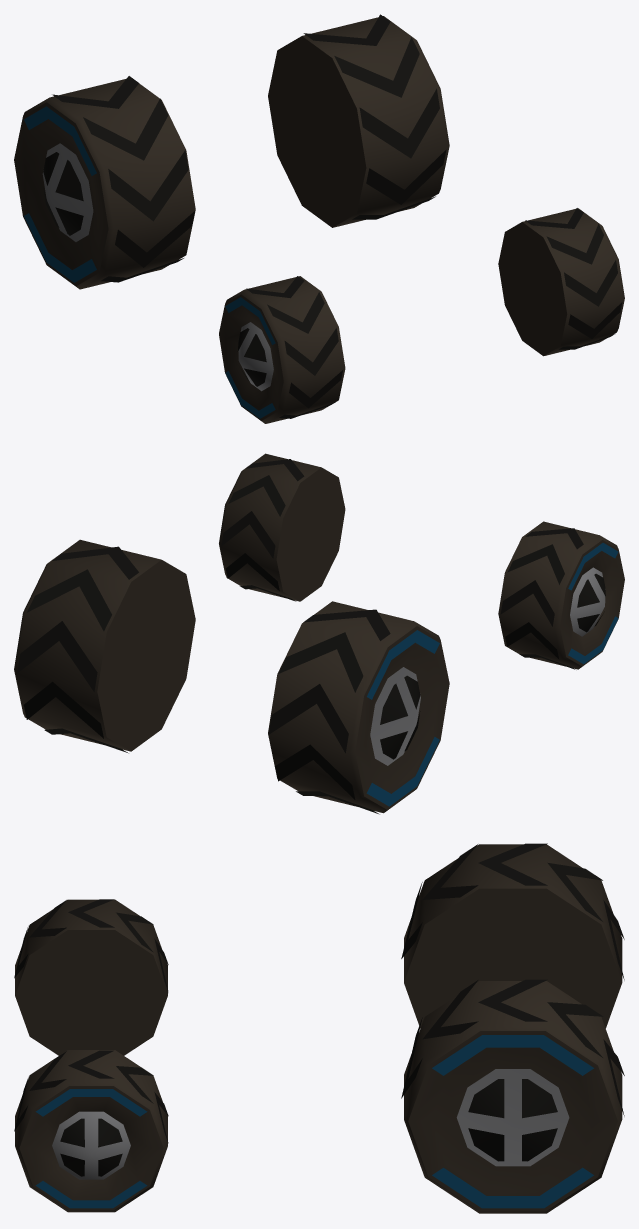
The model's file is MuscleWheel02C04.gltf.
3 renders of one model, top to bottom at view 1: azimuth 30°, elevation 25°; view 2: azimuth 150°, elevation 25°; view 3: azimuth 270°, elevation 25°, orthographic. The views are drawn at different scales.
Parts seen in each view (by area): view 1: MuscleWheel02C04; view 2: MuscleWheel02C04; view 3: MuscleWheel02C04.
Boxes of the visible parts, bbox=[...] form: MuscleWheel02C04: bbox=[14, 14, 624, 423]; MuscleWheel02C04: bbox=[14, 453, 624, 814]; MuscleWheel02C04: bbox=[14, 843, 624, 1213].
Size of the model in its own units: 0.2104 by 0.0956 by 0.274.
